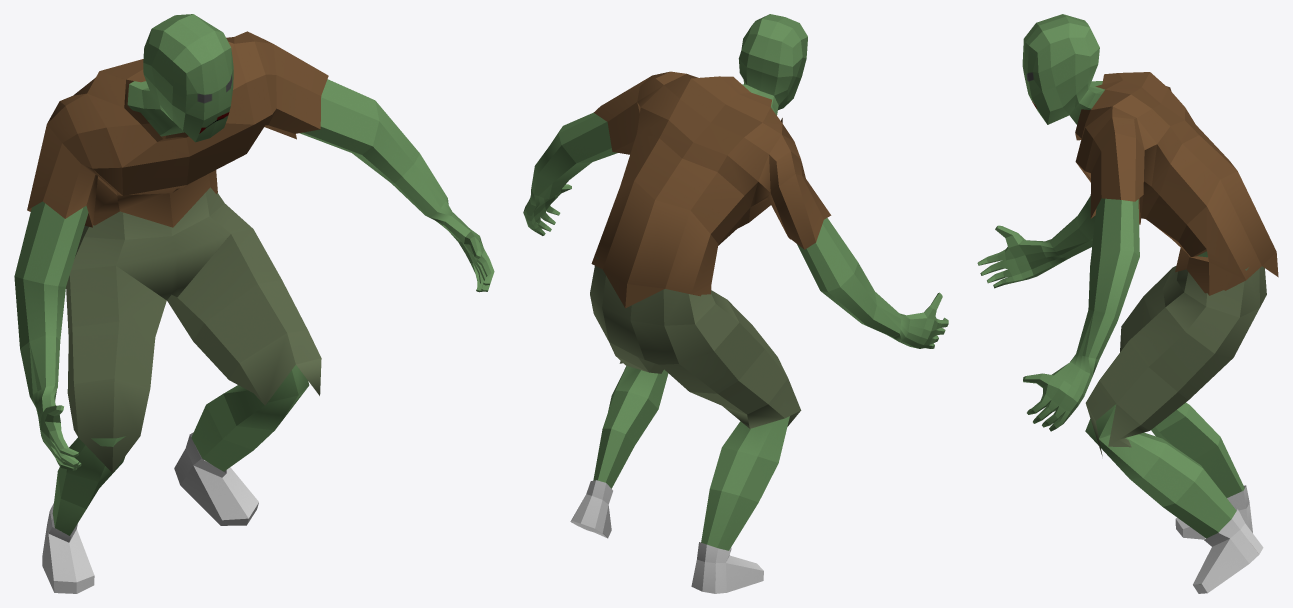
File: ZombieWalk(17).obj
3 renders of one model, left to right at view 1: azimuth 30°, elevation 25°; view 2: azimuth 150°, elevation 25°; view 3: azimuth 270°, elevation 25°, orthographic. The views are drawn at different scales.
Parts seen in each view (by area): view 1: Object001; view 2: Object001; view 3: Object001.
Part boxes in pixels (bbox=[...]): Object001: bbox=[14, 14, 494, 593]; Object001: bbox=[523, 14, 948, 593]; Object001: bbox=[977, 14, 1278, 593].
Bounding box in the file's own units: 38.58 × 48.4 × 24.94.
